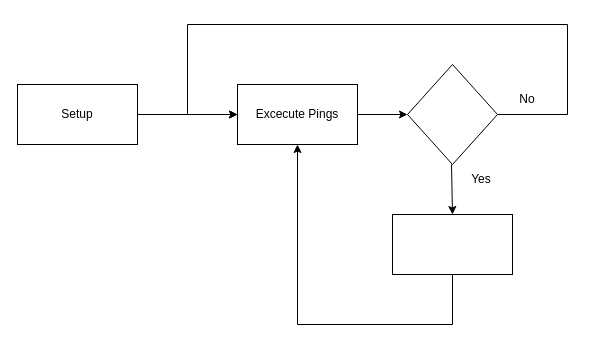
Some shapes in this 593 by 350 pixel diagram are drawn without their labels. Here are the shapes that lost their labels. From the top down, the centre of each, then its label:
(452,114): is "Edit" Interrupt enabled?
(452,244): enter Edit Mode
